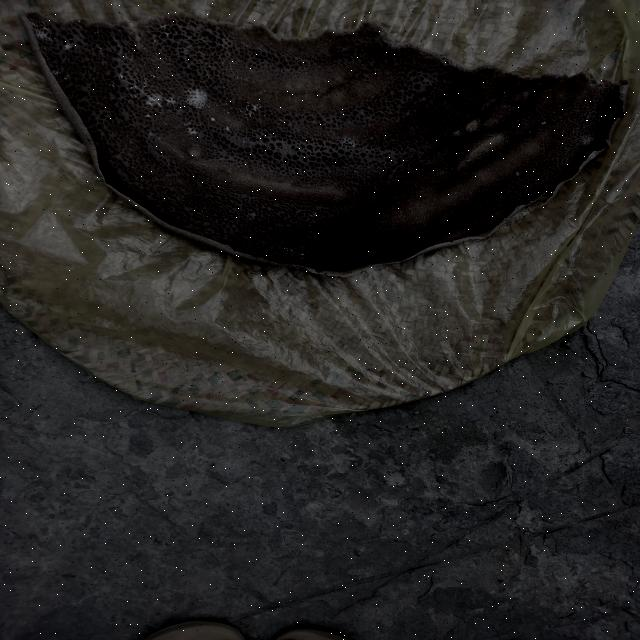injera_mold: (183, 86, 212, 110), (30, 23, 51, 44), (245, 101, 265, 119), (183, 120, 201, 139), (579, 128, 596, 148), (143, 91, 162, 108), (336, 138, 358, 152), (61, 40, 74, 54), (145, 130, 160, 142), (128, 82, 138, 98), (165, 96, 176, 109), (114, 70, 126, 81), (244, 211, 256, 221), (282, 247, 294, 256), (306, 212, 324, 217), (160, 24, 171, 31), (299, 250, 306, 260), (162, 32, 172, 39), (142, 78, 148, 89), (50, 69, 61, 75), (143, 113, 152, 120), (61, 75, 70, 82), (208, 116, 216, 123), (222, 126, 230, 133), (514, 170, 521, 178), (150, 73, 159, 79), (239, 139, 248, 145), (110, 83, 118, 89), (129, 46, 136, 52), (208, 63, 214, 70), (236, 108, 242, 114), (96, 46, 102, 52), (151, 39, 158, 44), (541, 121, 548, 126), (163, 120, 168, 126), (502, 90, 507, 96), (236, 76, 240, 82), (280, 69, 284, 75), (52, 36, 56, 41), (263, 89, 267, 94), (94, 31, 100, 34), (128, 140, 132, 144), (130, 166, 134, 170), (223, 86, 227, 90), (223, 102, 228, 105), (278, 119, 283, 122), (77, 20, 82, 23), (168, 147, 171, 152), (244, 129, 248, 132), (225, 111, 228, 114), (528, 130, 532, 132), (234, 89, 235, 91)
